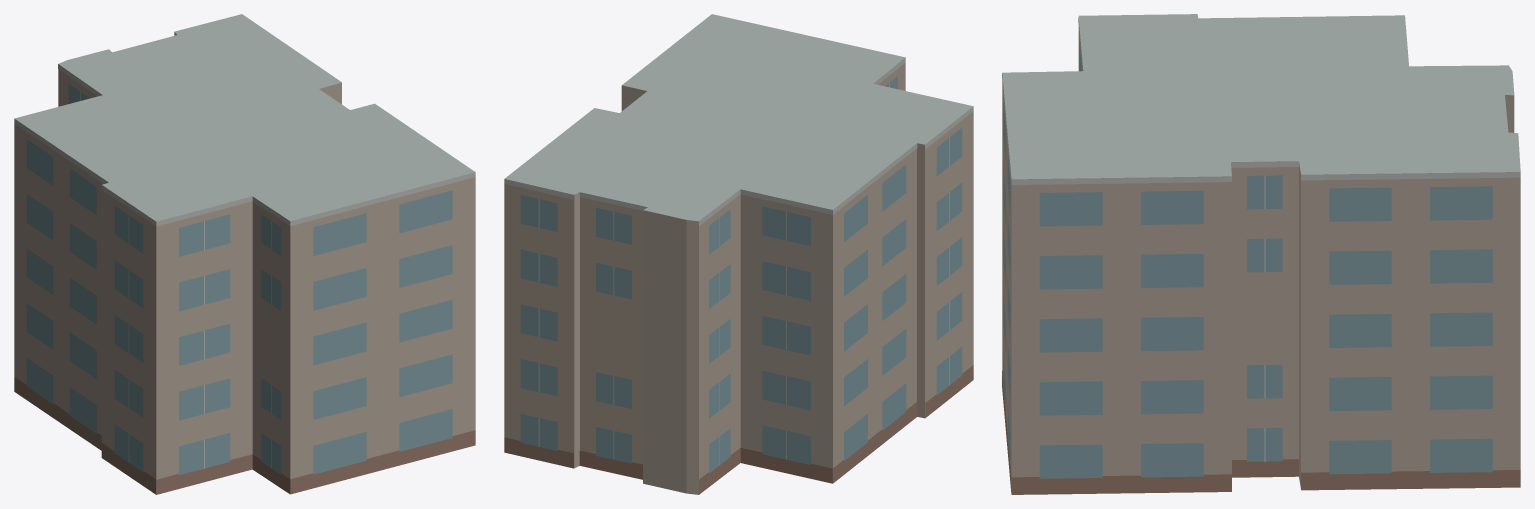
File: survey-upis-33012783.glb
The picture shows the model from 3 angles, left to right: view 1: azimuth 30°, elevation 25°; view 2: azimuth 150°, elevation 25°; view 3: azimuth 270°, elevation 25°; orthographic projection. The views are drawn at different scales.
Parts seen in each view (by area): view 1: survey-upis-33012783.tmp; view 2: survey-upis-33012783.tmp; view 3: survey-upis-33012783.tmp.
Boxes of the visible parts, box(x1,y1,x2,y2) form: survey-upis-33012783.tmp: box(14, 14, 475, 494); survey-upis-33012783.tmp: box(504, 14, 973, 494); survey-upis-33012783.tmp: box(1002, 14, 1520, 494).
Bounding box in the file's own units: 15.18 × 13.5 × 20.11.
